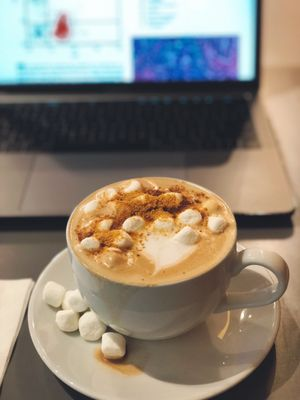pizza: (66, 177, 289, 342)
